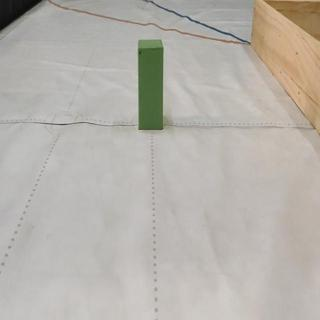greenbox: (137, 39, 165, 130)
